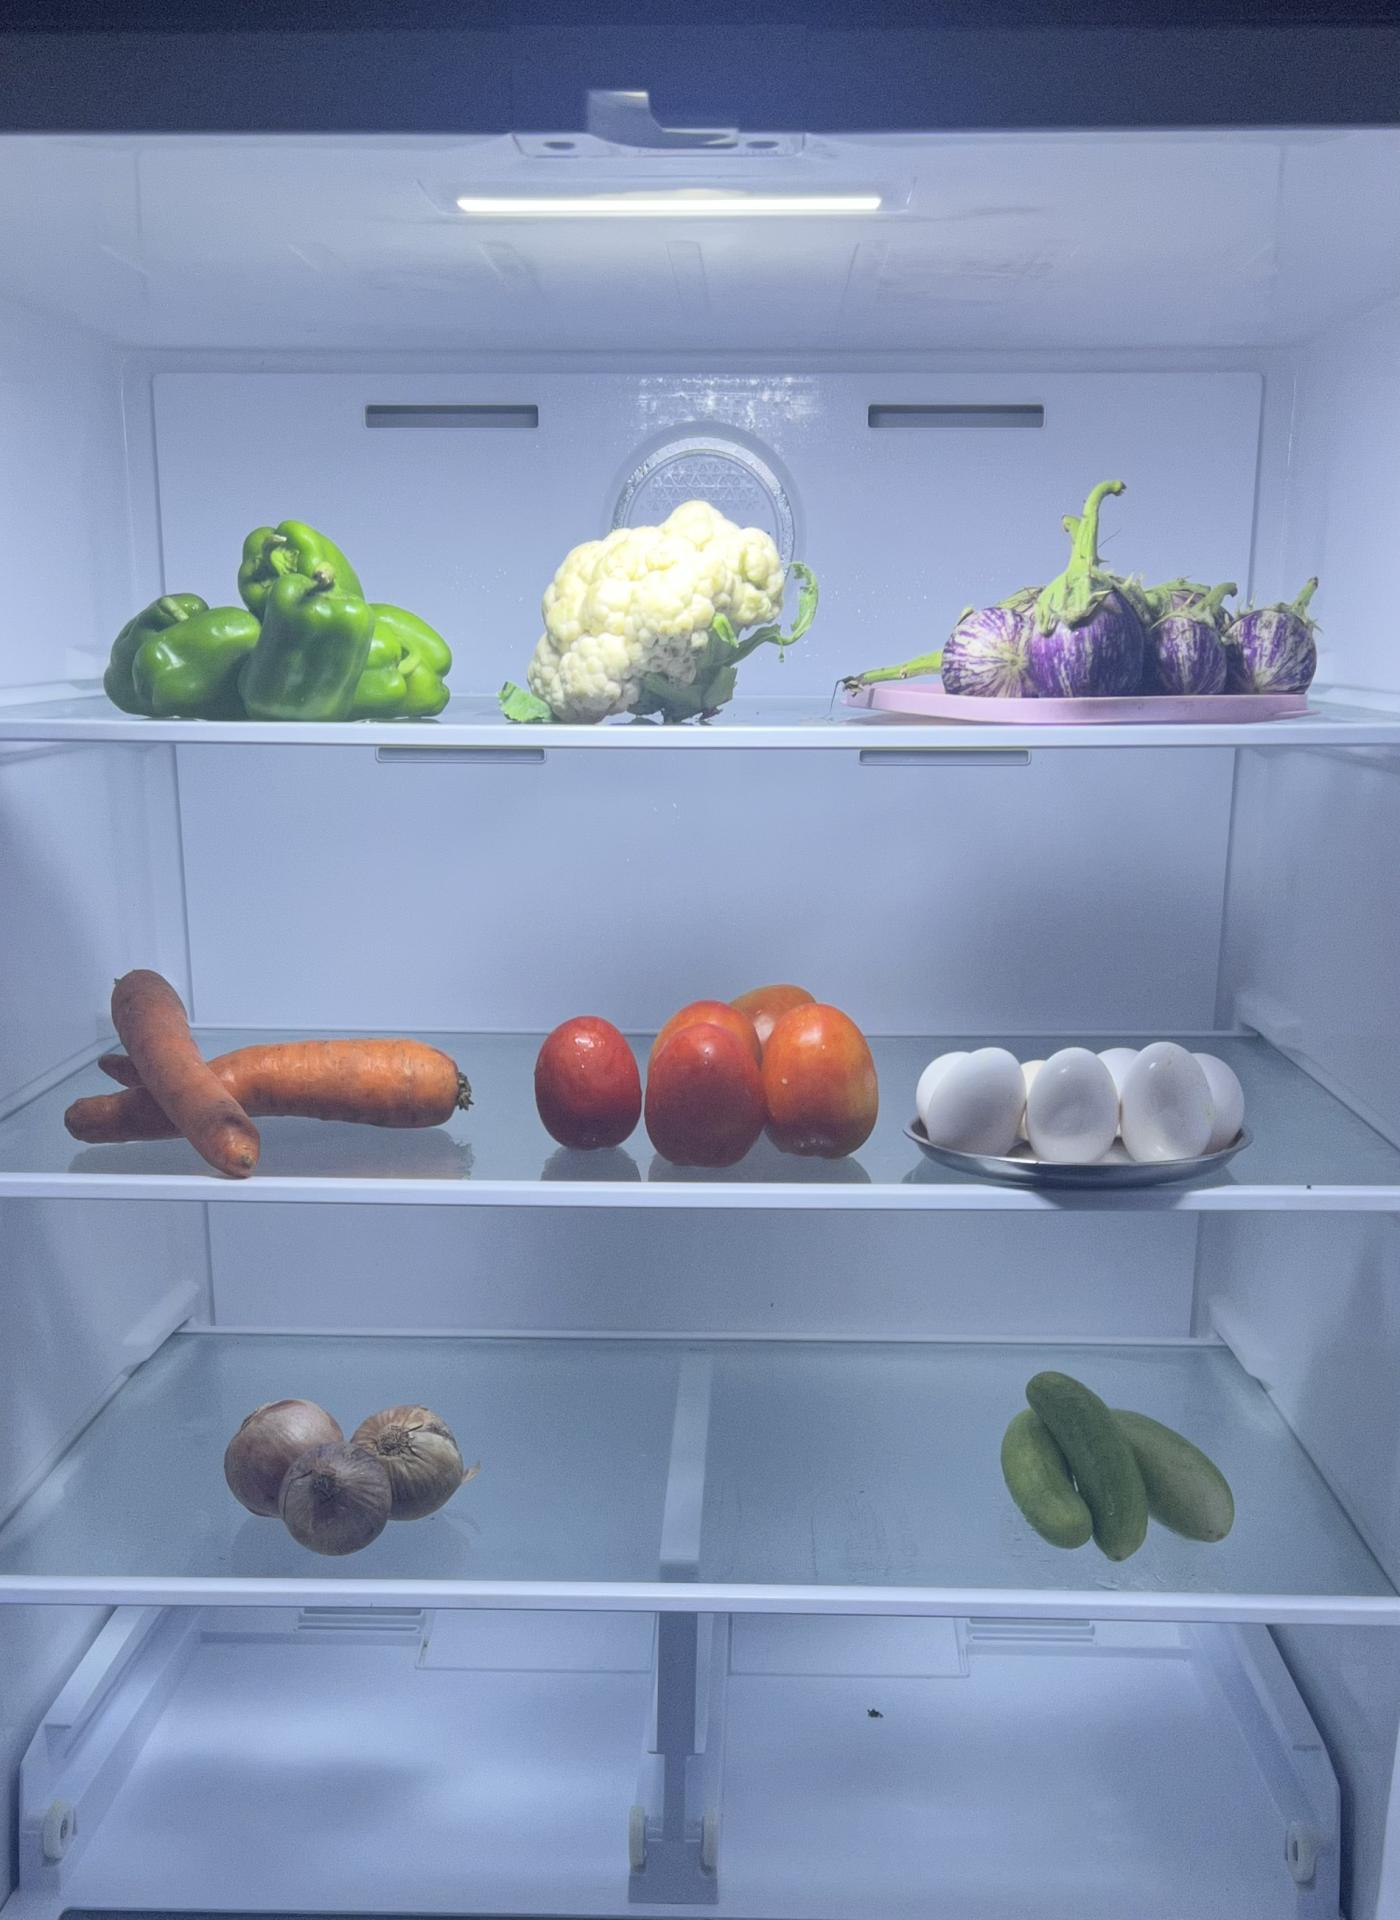brinjal: (929, 555, 1330, 713)
capsicum: (106, 516, 462, 721)
carrots: (64, 969, 468, 1178)
cauliflower: (522, 501, 792, 723)
cucumber: (999, 1371, 1243, 1564)
egg: (905, 1033, 1246, 1167)
onion: (228, 1382, 474, 1562)
tomato: (538, 985, 890, 1170)
